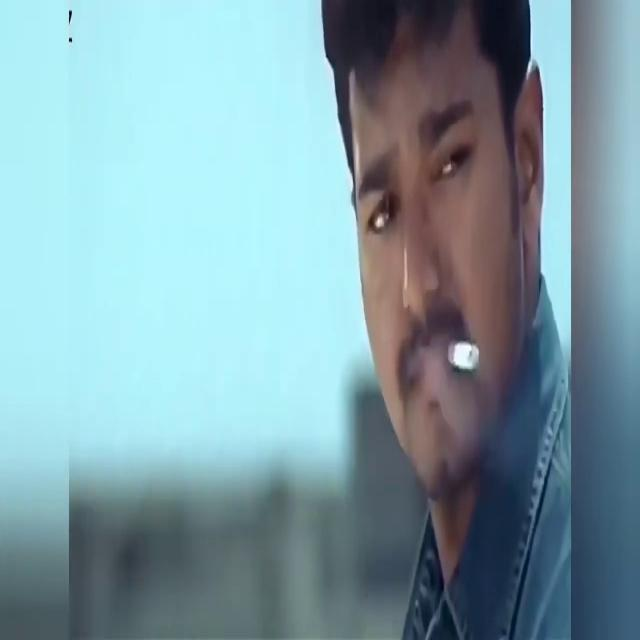smoking: (418, 318, 479, 381)
